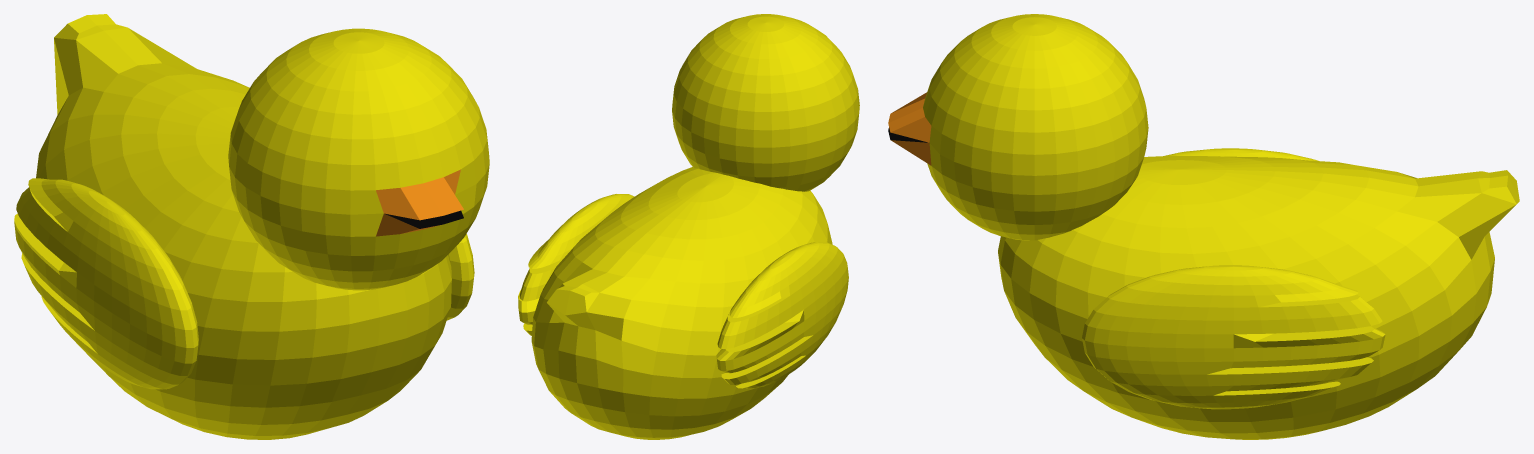
File: canard 1.fbx
The picture shows the model from 3 angles, left to right: view 1: azimuth 30°, elevation 25°; view 2: azimuth 150°, elevation 25°; view 3: azimuth 270°, elevation 25°; orthographic projection. The views are drawn at different scales.
Visible parts, largest first — view 1: Sphere, Sphere.001, Sphere.002; view 2: Sphere, Sphere.001, Sphere.002; view 3: Sphere, Sphere.001, Sphere.002.
Boxes of the visible parts, left/top/right/bottom form: Sphere: left=36, top=14, right=451, bottom=439; Sphere.001: left=228, top=28, right=489, bottom=290; Sphere.002: left=14, top=178, right=474, bottom=389; Sphere: left=531, top=167, right=832, bottom=439; Sphere.001: left=672, top=14, right=859, bottom=191; Sphere.002: left=518, top=194, right=848, bottom=388; Sphere: left=998, top=156, right=1519, bottom=439; Sphere.001: left=888, top=14, right=1148, bottom=240; Sphere.002: left=1082, top=148, right=1385, bottom=409.
Size of the model in its own units: 229 by 290 by 416.
